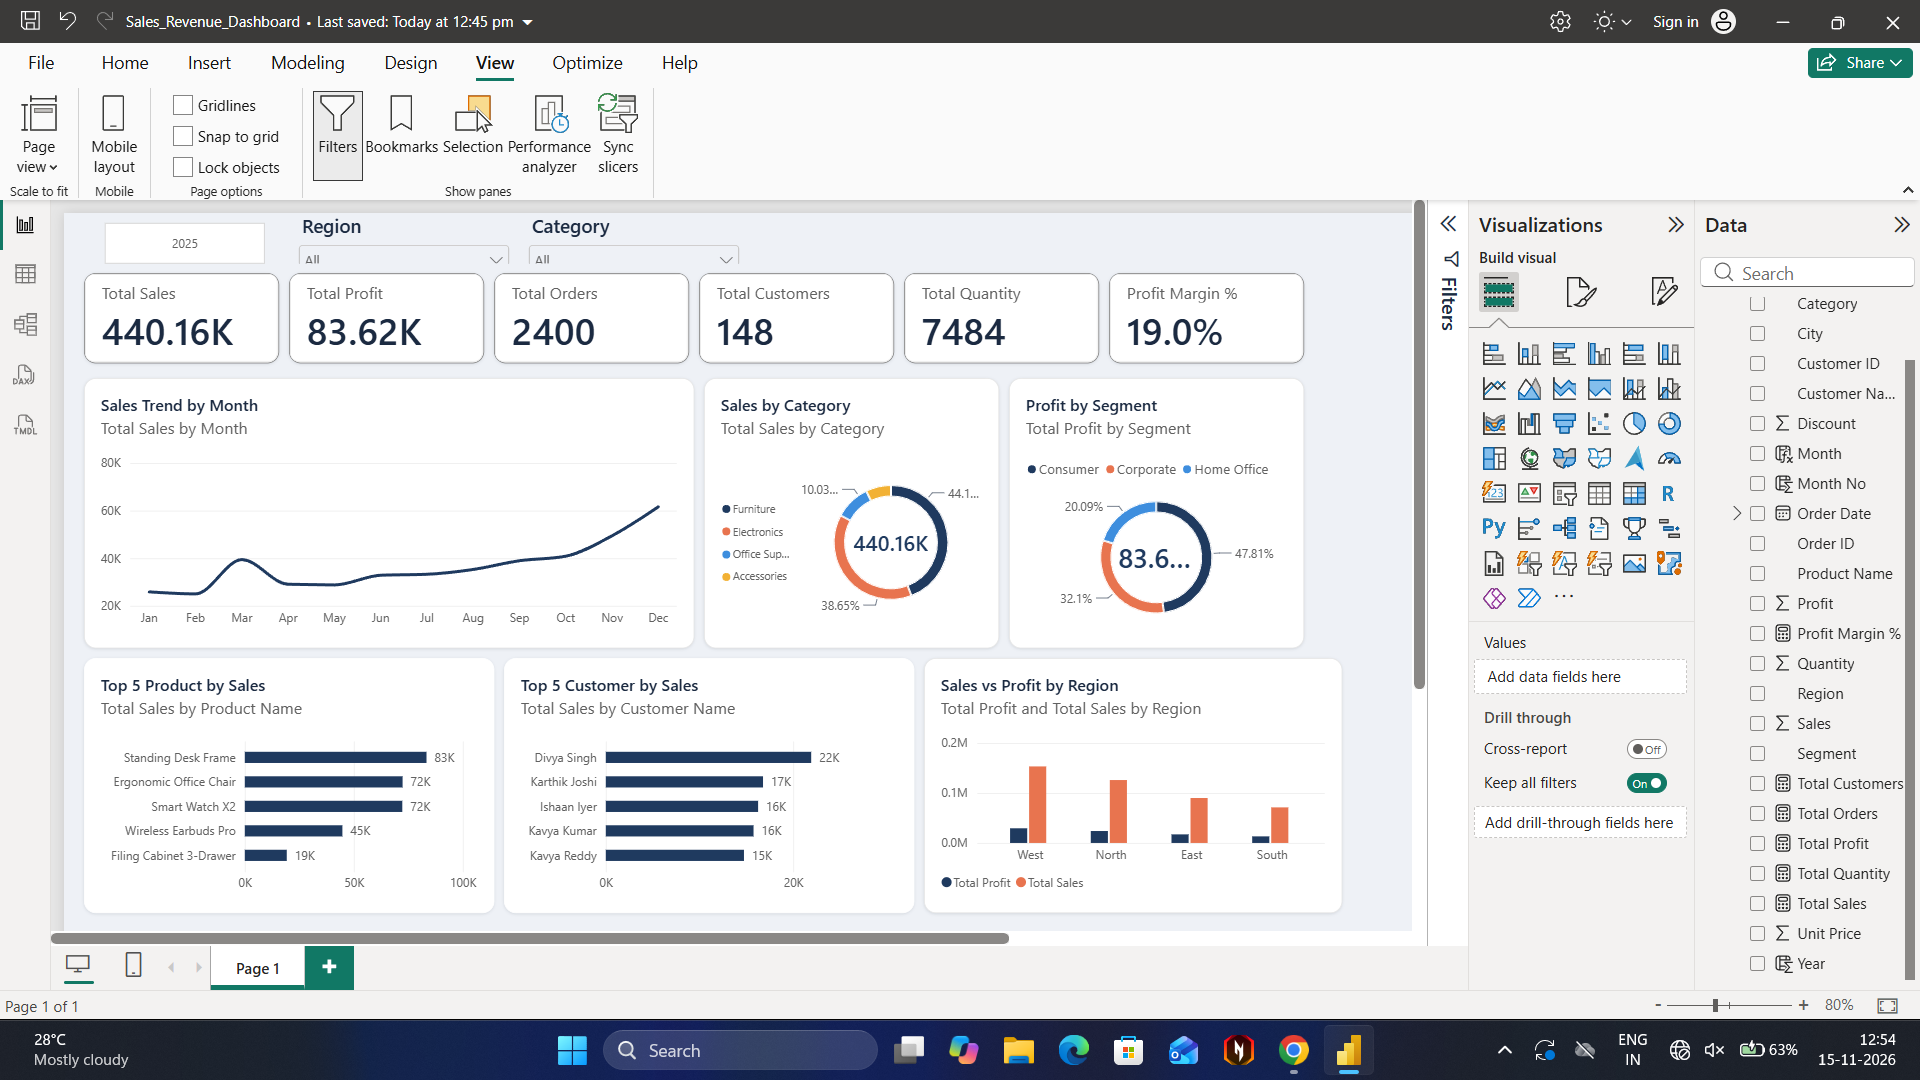

This screenshot's page, from the dashboard's own definition file:
{"tool":"powerbi","page":{"name":"Sales Dashboard","canvas":[1920,1080],"ordinal":0},"visuals":[{"type":"cardVisual","fields":{"Data":["sales_data.Total Sales"]},"box":[20,60,195,90],"z":0},{"type":"cardVisual","fields":{"Data":["sales_data.Total Profit"]},"box":[225,60,195,90],"z":1000},{"type":"cardVisual","fields":{"Data":["sales_data.Total Orders"]},"box":[430,60,195,90],"z":2000},{"type":"cardVisual","fields":{"Data":["sales_data.Total Customers"]},"box":[635,60,195,90],"z":3000},{"type":"cardVisual","fields":{"Data":["sales_data.Total Quantity"]},"box":[840,60,195,90],"z":4000},{"type":"cardVisual","fields":{"Data":["sales_data.Profit Margin %"]},"box":[1045,60,195,90],"z":5000},{"type":"lineChart","title":"Sales Trend by Month","fields":{"Category":["sales_data.Month"],"Y":["sales_data.Total Sales"]},"box":[20,165,610,270],"z":6000},{"type":"donutChart","title":"Sales by Category","fields":{"Category":["sales_data.Category"],"Y":["sales_data.Total Sales"]},"box":[640,165,295,270],"z":7000},{"type":"donutChart","title":"Profit by Segment","fields":{"Category":["sales_data.Segment"],"Y":["sales_data.Total Profit"]},"box":[945,165,295,270],"z":8000},{"type":"clusteredBarChart","title":"Top 5 Product by Sales","fields":{"Category":["sales_data.Product Name"],"Y":["sales_data.Total Sales"]},"box":[20,445,410,255],"z":9000},{"type":"clusteredBarChart","title":"Top 5 Customer by Sales","fields":{"Category":["sales_data.Customer Name"],"Y":["sales_data.Total Sales"]},"box":[440,445,410,255],"z":10000},{"type":"clusteredColumnChart","title":"Sales vs Profit by Region","fields":{"Category":["sales_data.Region"],"Y":["sales_data.Total Profit","sales_data.Total Sales"]},"box":[859.6,445.2,418,255.2],"z":10001},{"type":"slicer","fields":{"Values":["sales_data.Year"]},"box":[20,8,200,45],"z":10002},{"type":"slicer","fields":{"Values":["sales_data.Region"]},"box":[230,0,220,50],"z":10003},{"type":"slicer","fields":{"Values":["sales_data.Category"]},"box":[460,0,220,50],"z":10004}]}

Visuals, with their boxes on the page's 1920x1080 design canvas (x1, y1, x2, y2). These are canvas units, not pixel positions in the 1920x1080 screenshot, which may show the page scaled, cropped or inside an application window:
cardVisual - sales_data.Total Sales: 20, 60, 215, 150
cardVisual - sales_data.Total Profit: 225, 60, 420, 150
cardVisual - sales_data.Total Orders: 430, 60, 625, 150
cardVisual - sales_data.Total Customers: 635, 60, 830, 150
cardVisual - sales_data.Total Quantity: 840, 60, 1035, 150
cardVisual - sales_data.Profit Margin %: 1045, 60, 1240, 150
"Sales Trend by Month" lineChart: 20, 165, 630, 435
"Sales by Category" donutChart: 640, 165, 935, 435
"Profit by Segment" donutChart: 945, 165, 1240, 435
"Top 5 Product by Sales" clusteredBarChart: 20, 445, 430, 700
"Top 5 Customer by Sales" clusteredBarChart: 440, 445, 850, 700
"Sales vs Profit by Region" clusteredColumnChart: 860, 445, 1278, 700
slicer - sales_data.Year: 20, 8, 220, 53
slicer - sales_data.Region: 230, 0, 450, 50
slicer - sales_data.Category: 460, 0, 680, 50
